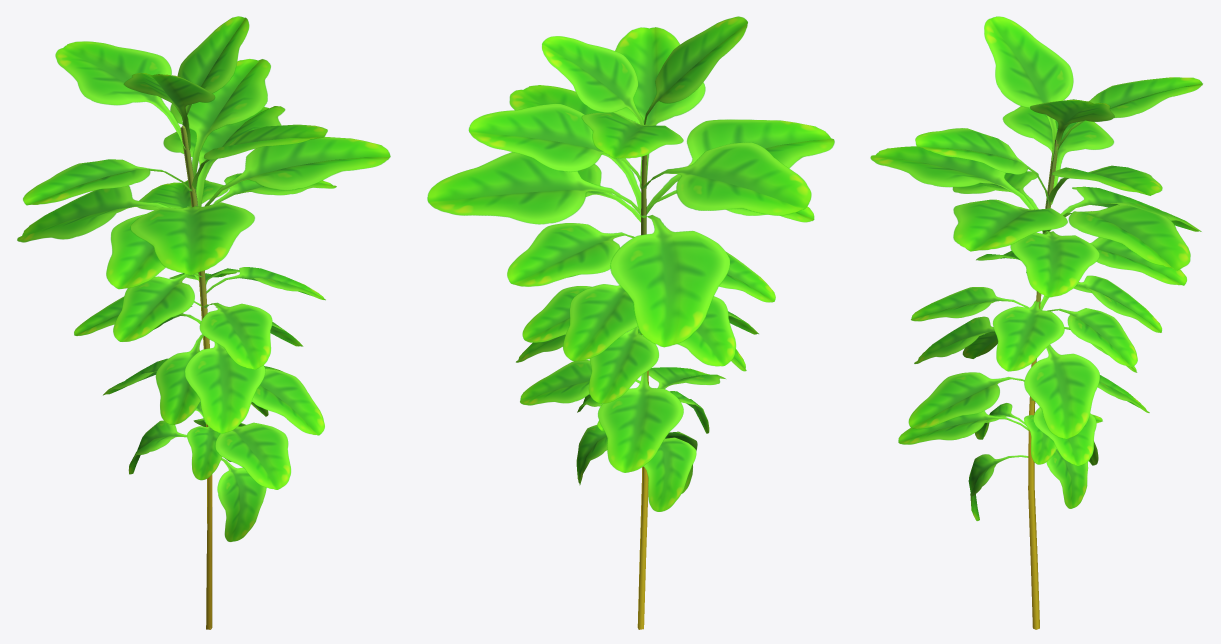
File: large_plant_2.glb
The picture shows the model from 3 angles, left to right: view 1: azimuth 30°, elevation 25°; view 2: azimuth 150°, elevation 25°; view 3: azimuth 270°, elevation 25°; orthographic projection. The views are drawn at different scales.
Visible parts, largest first — view 1: Large_Stem_plant; view 2: Large_Stem_plant; view 3: Large_Stem_plant.
Boxes of the visible parts, x1,y1,x2,y2 form: Large_Stem_plant: (17, 16, 390, 629); Large_Stem_plant: (427, 16, 834, 629); Large_Stem_plant: (870, 16, 1202, 629).
Bounding box in the file's own units: 0.0479 × 0.0828 × 0.0444.
Materials: 1 (1 with a texture image).
